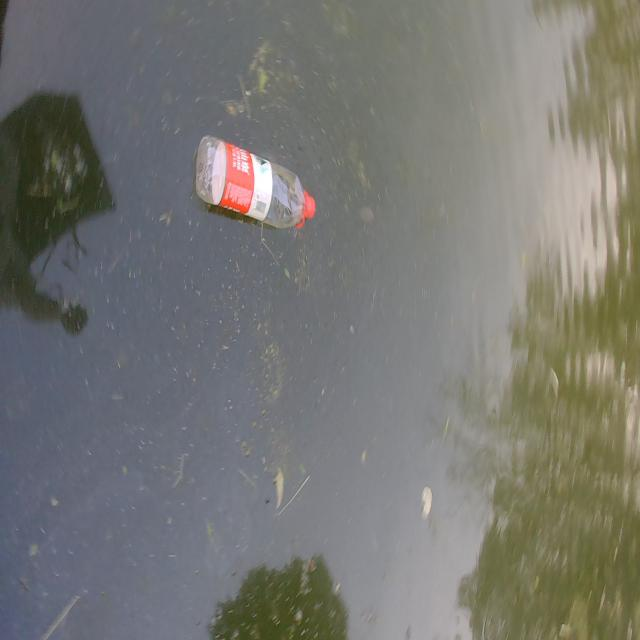Bottle: (192, 129, 316, 232)
